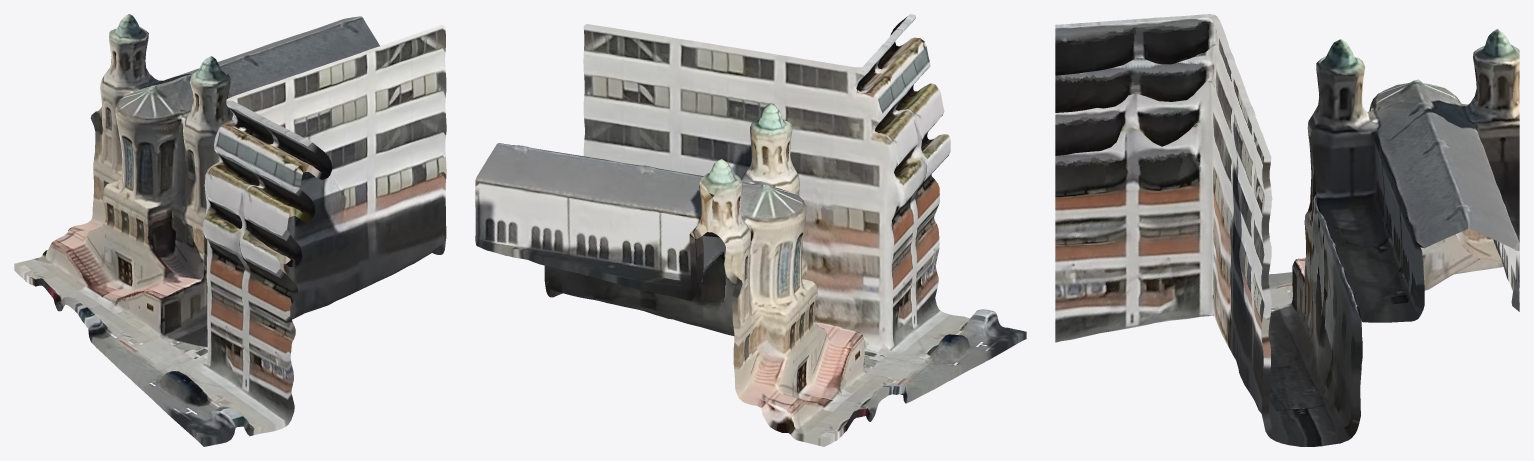
File: z20-167753-405238-h0-yup-uvflip-v3-world.glb
3 renders of one model, left to right at view 1: azimuth 30°, elevation 25°; view 2: azimuth 150°, elevation 25°; view 3: azimuth 270°, elevation 25°, orthographic. The views are drawn at different scales.
Size of the model in its own units: 30.16 by 24.64 by 30.32.
1 material, 1 textured.
